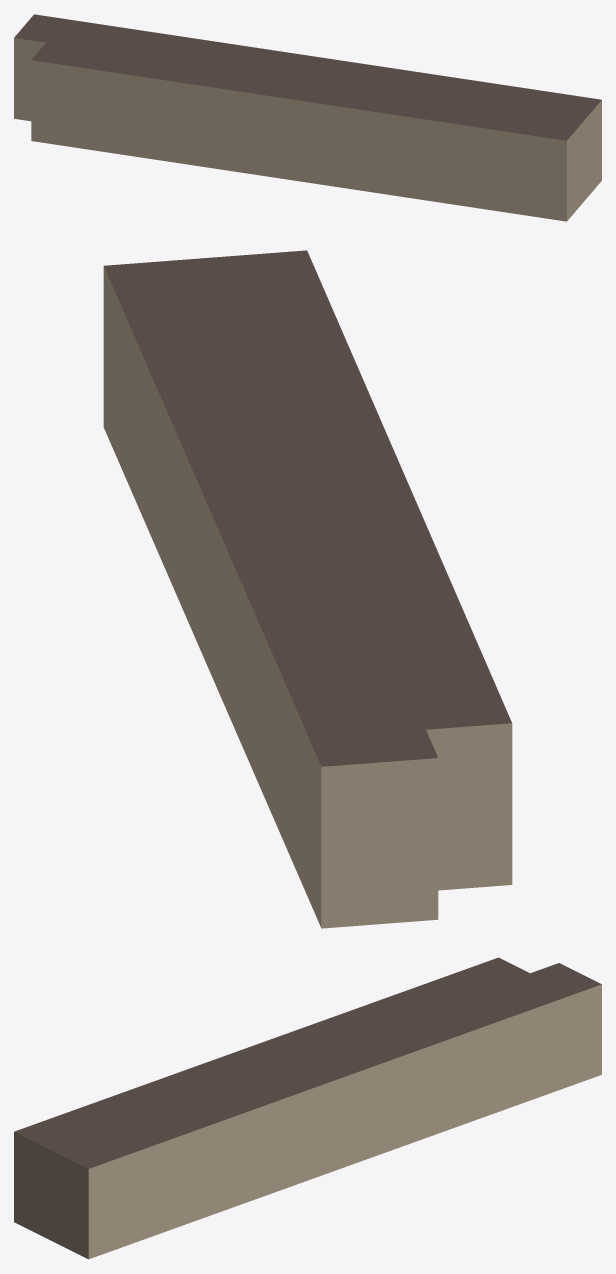
3 views of the same model, one above another, from view 1: azimuth 30°, elevation 25°; view 2: azimuth 150°, elevation 25°; view 3: azimuth 270°, elevation 25° (orthographic). The views are drawn at different scales.
Parts seen in each view (by area): view 1: HP-w1201228816; view 2: HP-w1201228816; view 3: HP-w1201228816.
Boxes of the visible parts, x1,y1,x2,y2 form: HP-w1201228816: (14, 14, 601, 221); HP-w1201228816: (103, 250, 512, 928); HP-w1201228816: (14, 957, 601, 1259).
Bounding box in the file's own units: 45.14 × 9 × 53.02.
